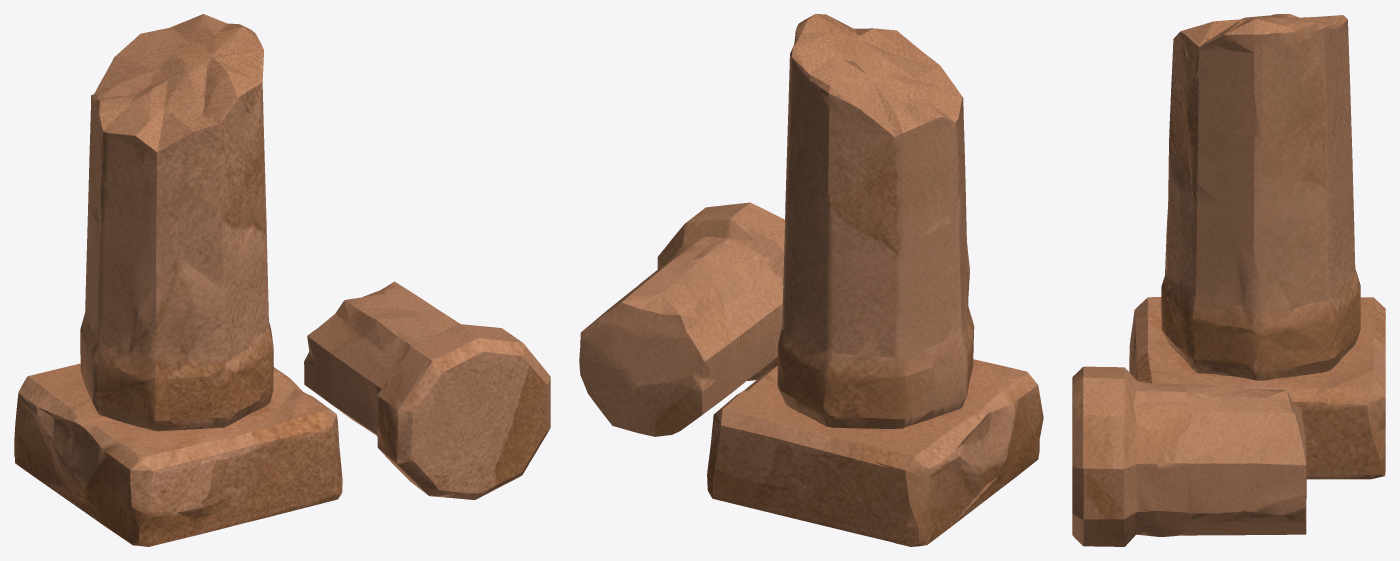
Rendered from pillar_broken.glb.
3 views of the same model, side by side, from view 1: azimuth 30°, elevation 25°; view 2: azimuth 150°, elevation 25°; view 3: azimuth 270°, elevation 25° (orthographic).
Size of the model in its own units: 1.77 by 1.9 by 1.21.
Materials: 1 (1 with a texture image).
